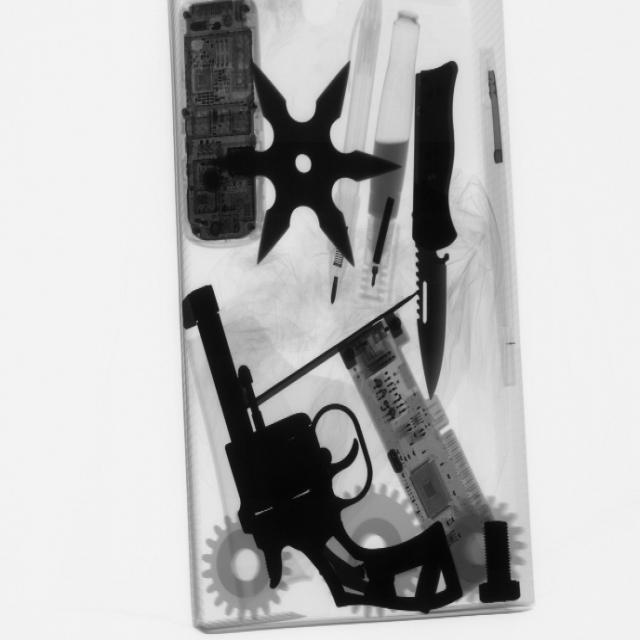GUN: (183, 283, 474, 625)
KNIFE: (400, 57, 474, 388)
SHURIKEN: (220, 53, 391, 271)
